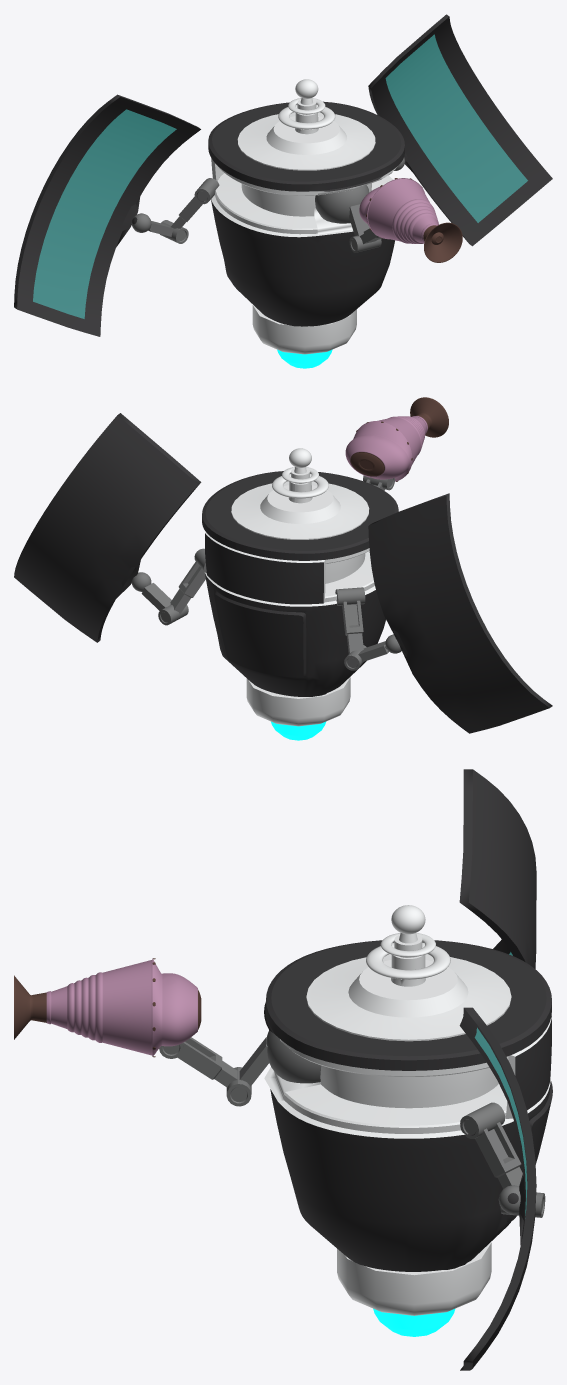
Rendered from Robot_Lv2.fbx.
3 views of the same model, one above another, from view 1: azimuth 30°, elevation 25°; view 2: azimuth 150°, elevation 25°; view 3: azimuth 270°, elevation 25° (orthographic). The views are drawn at different scales.
Parts seen in each view (by area): view 1: Corpo.005, SchermoDestro, SchermoSinistro; view 2: Corpo.005, SchermoSinistro, SchermoDestro; view 3: Corpo.005, SchermoDestro, SchermoSinistro.
Boxes of the visible parts, bbox=[...] form: Corpo.005: bbox=[208, 79, 462, 368]; SchermoDestro: bbox=[14, 94, 219, 336]; SchermoSinistro: bbox=[368, 14, 552, 246]; Corpo.005: bbox=[202, 397, 448, 740]; SchermoSinistro: bbox=[14, 413, 206, 642]; SchermoDestro: bbox=[335, 493, 552, 733]; Corpo.005: bbox=[14, 905, 552, 1336]; SchermoDestro: bbox=[459, 769, 536, 968]; SchermoSinistro: bbox=[459, 1007, 545, 1370].
Size of the model in its own units: 763 by 404 by 448.
